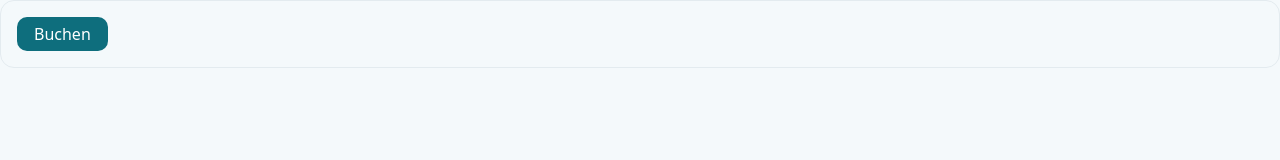
Scenario: BookingBox › books the event and then shows it as booked
The image size is (1280, 160).
Click the button "Buchen" at point(62, 34), box [17,17,108,51]
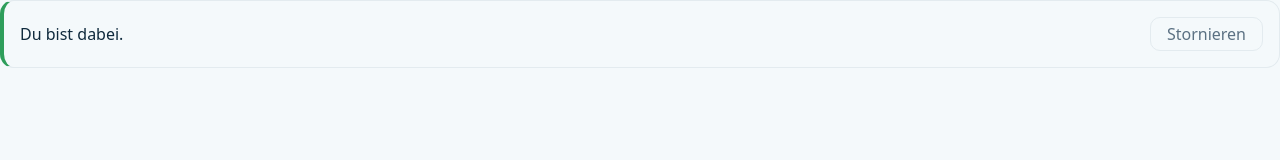
Result: the text "Du bist dabei." is shown at [20,26,123,42]
